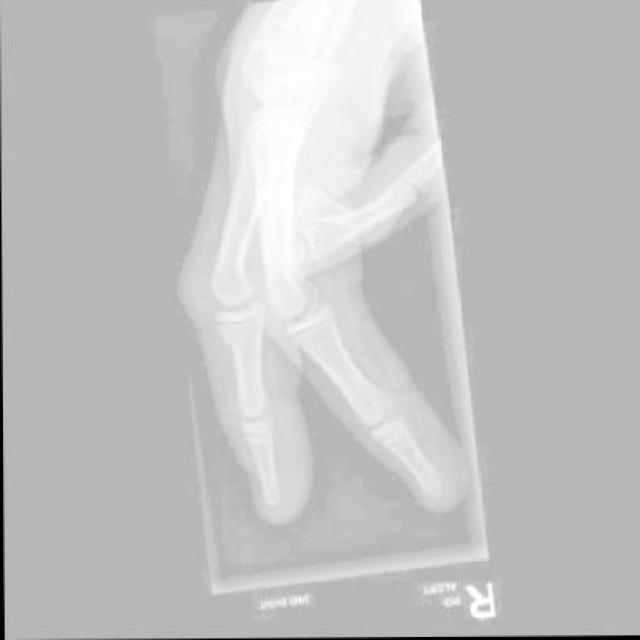Fracture: (213, 319, 244, 353)
